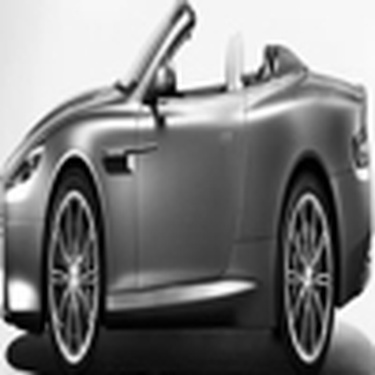car: (1, 23, 361, 362)
